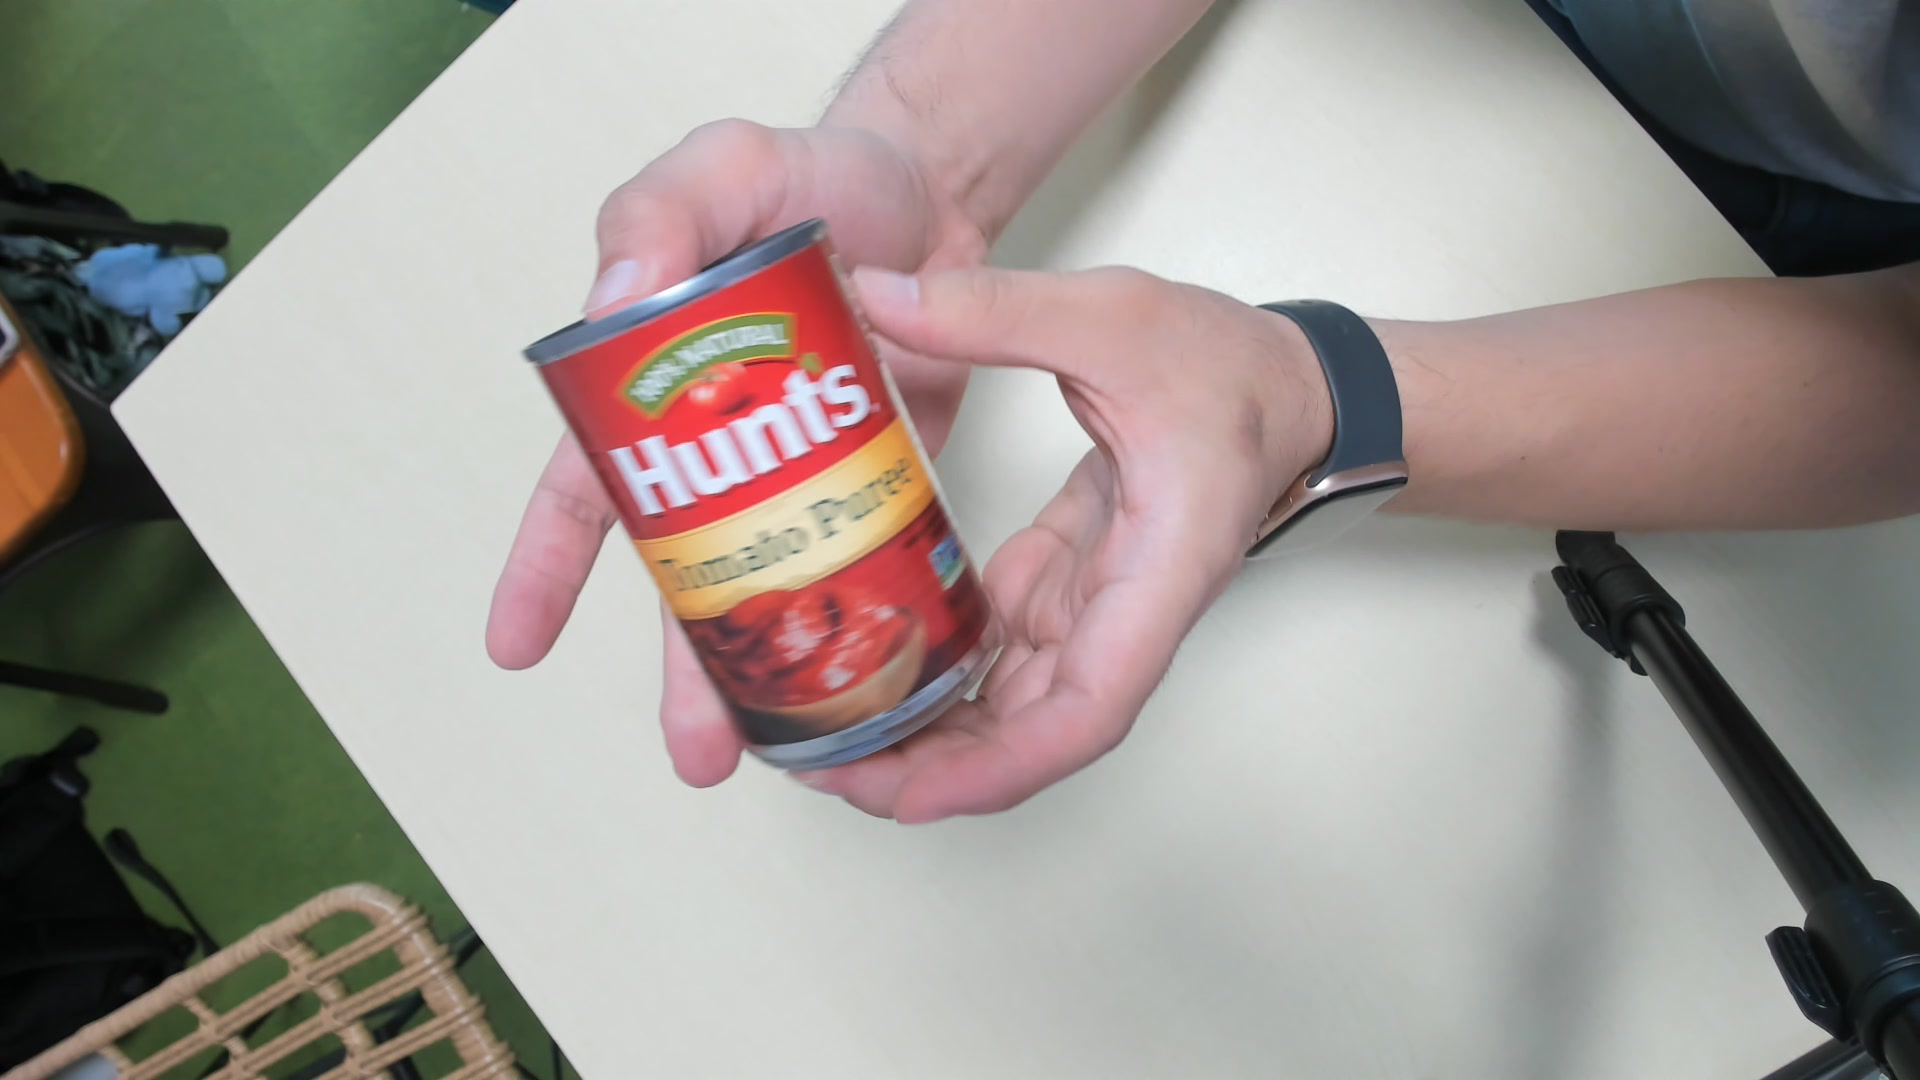OtherSauceDressing_300-399g_NonHalal_NonHealthy: (541, 231, 1005, 767)
